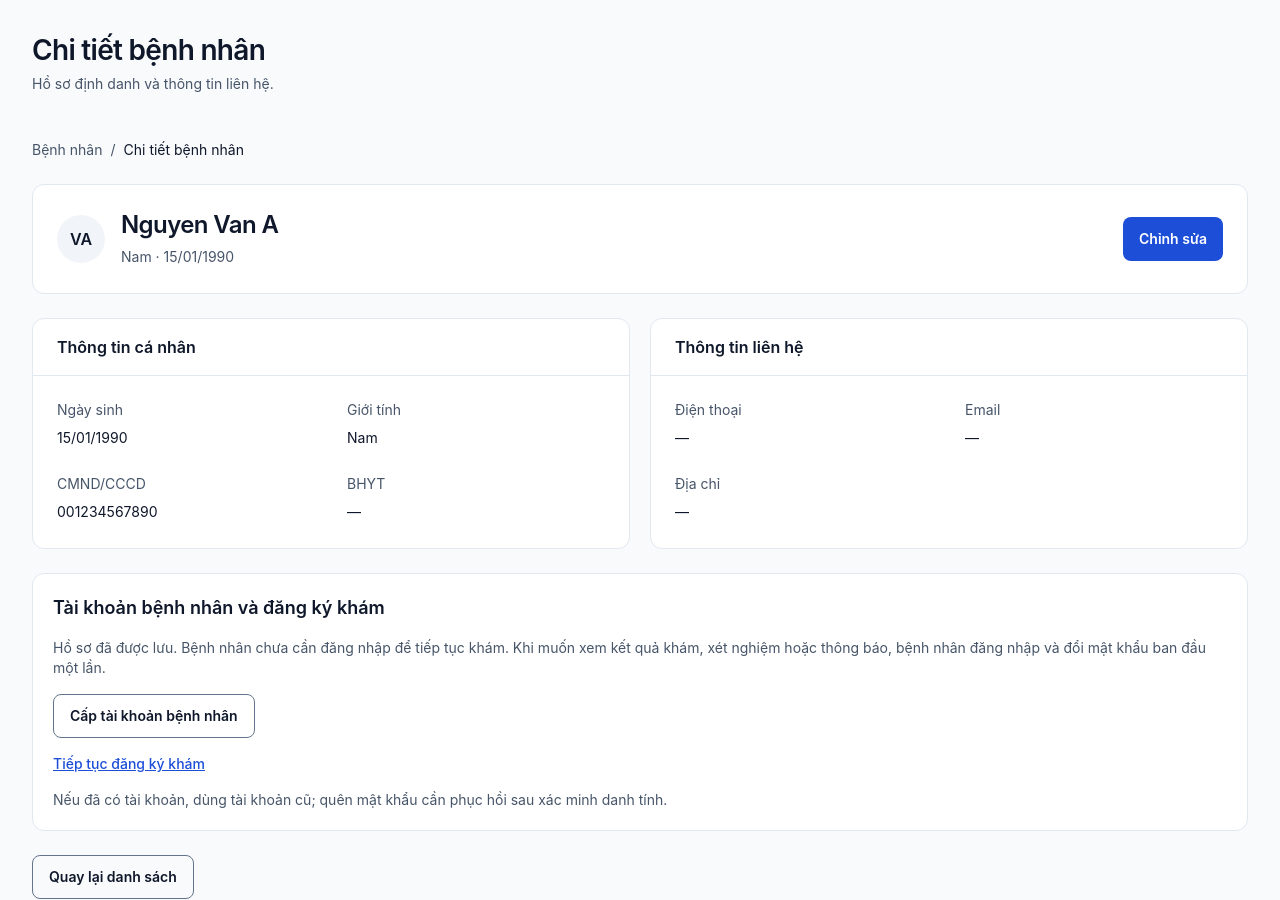
it: keeps the registration link when the backend reports an existing account
Click the button "Cấp tài khoản bệnh nhân": x=154, y=716 [53,694,255,738]
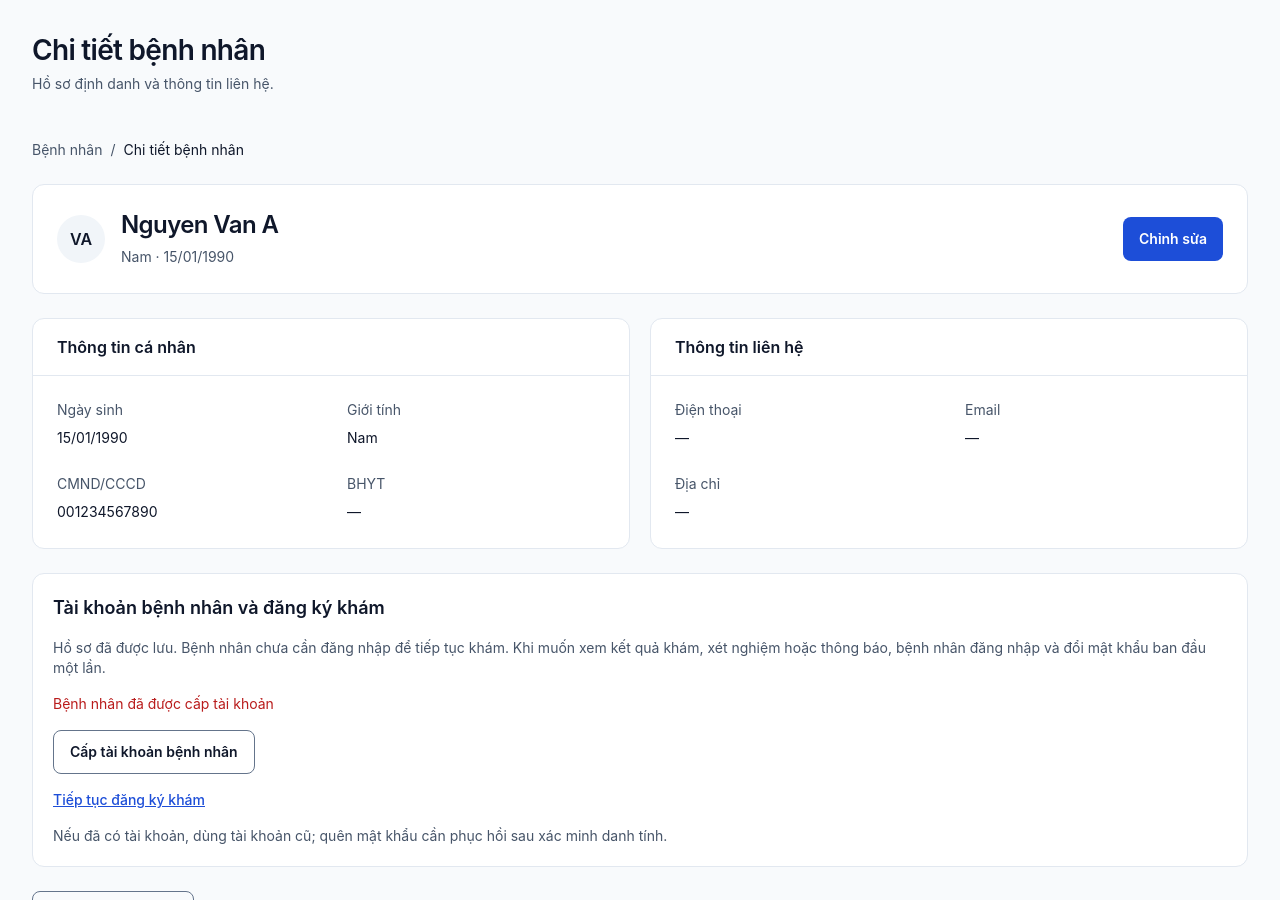
Expected: the link "Tiếp tục đăng ký khám" is shown, [53,791,205,808]
Expected: the message "Bệnh nhân đã được cấp tài khoản" is shown, [53,695,274,712]
